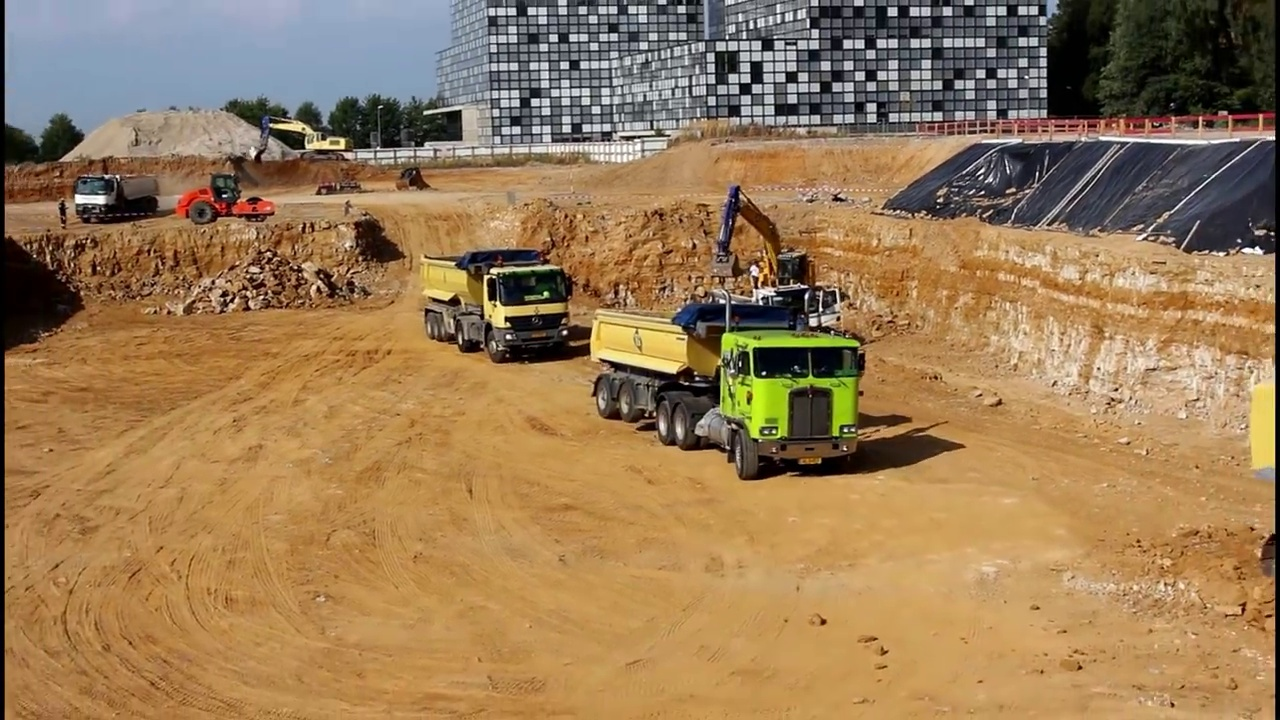compactor: (174, 171, 277, 226)
excavator: (705, 183, 823, 327), (250, 113, 354, 168)
truck: (589, 283, 871, 486), (417, 245, 575, 368), (719, 283, 844, 348), (71, 172, 161, 224)
worker: (55, 195, 72, 231), (750, 259, 765, 293)
